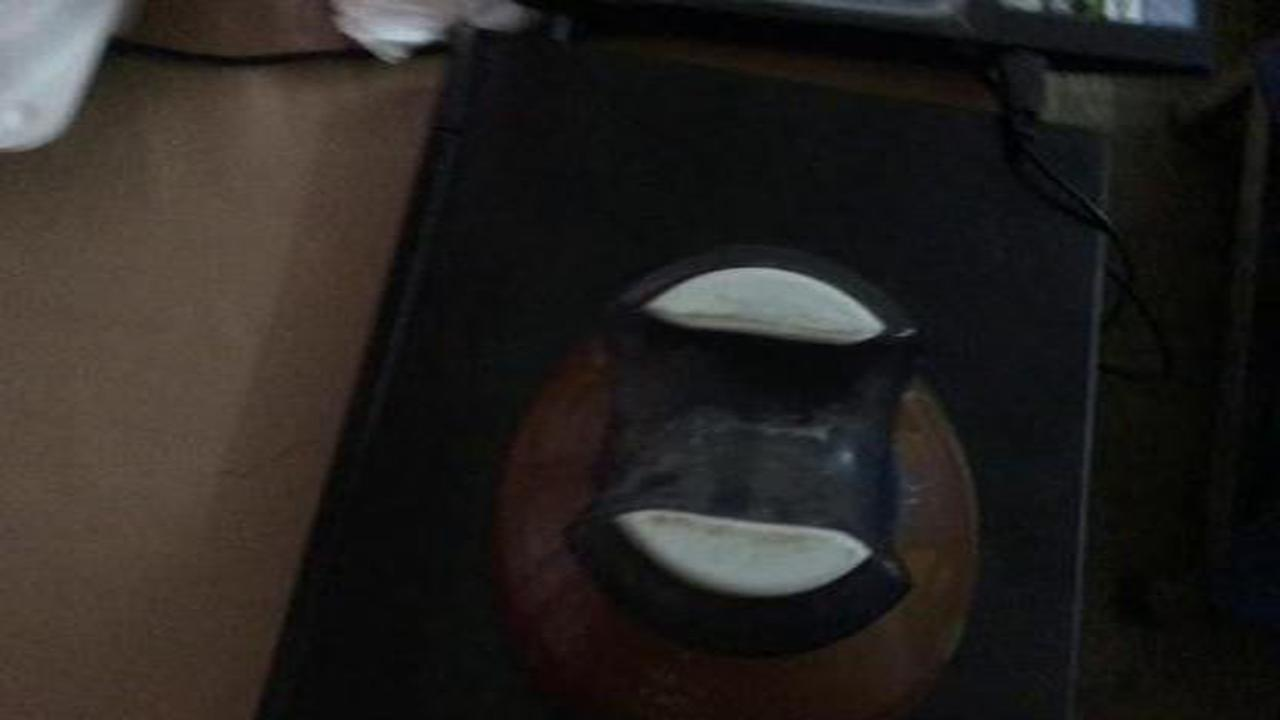insulator_pin: (459, 227, 1016, 714)
